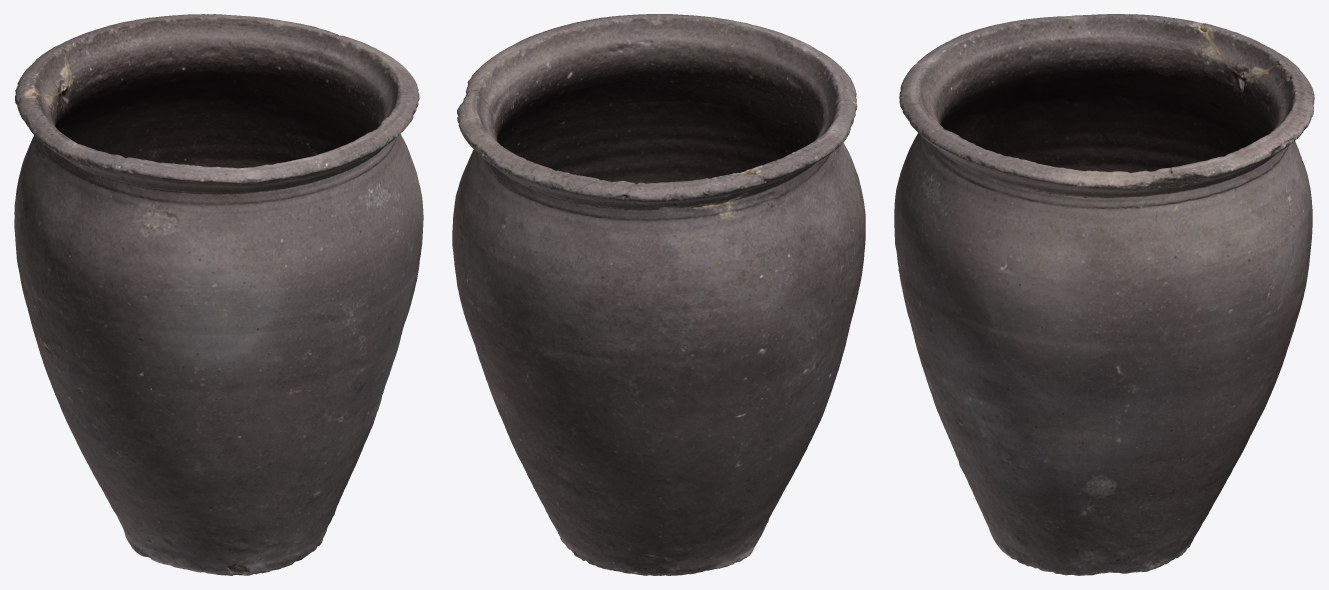
The model's file is pot1k.glb.
3 renders of one model, left to right at view 1: azimuth 30°, elevation 25°; view 2: azimuth 150°, elevation 25°; view 3: azimuth 270°, elevation 25°, orthographic.
Visible parts, largest first — view 1: Object_3, Object_4, Object_2; view 2: Object_3, Object_2, Object_4; view 3: Object_3, Object_2, Object_4.
Part boxes in pixels (x1,y1,x2,y2): Object_3: (14, 14, 423, 340); Object_4: (16, 53, 422, 575); Object_2: (16, 18, 375, 575); Object_3: (452, 14, 865, 346); Object_2: (455, 53, 863, 575); Object_4: (487, 20, 863, 575); Object_3: (894, 14, 1314, 342); Object_2: (897, 14, 1313, 575); Object_4: (894, 31, 1266, 575).
Bounding box in the file's own units: 0.1878 × 0.2268 × 0.1926.
Materials: 1 (1 with a texture image).
